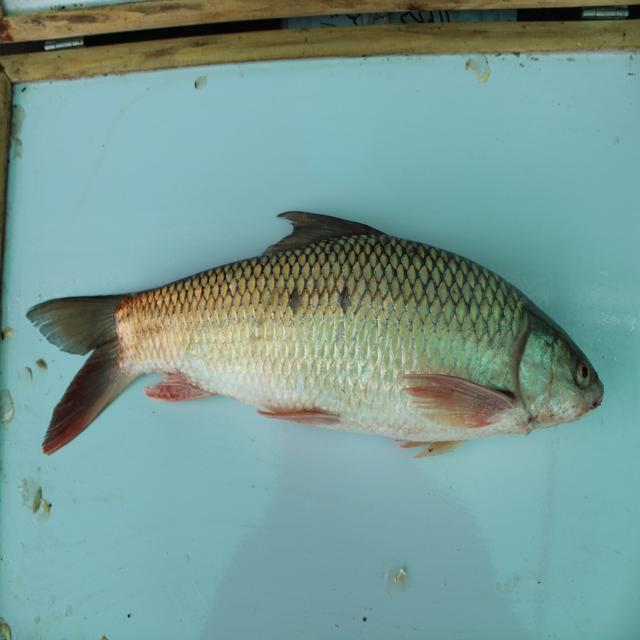Grass Carp: (25, 202, 612, 462)
